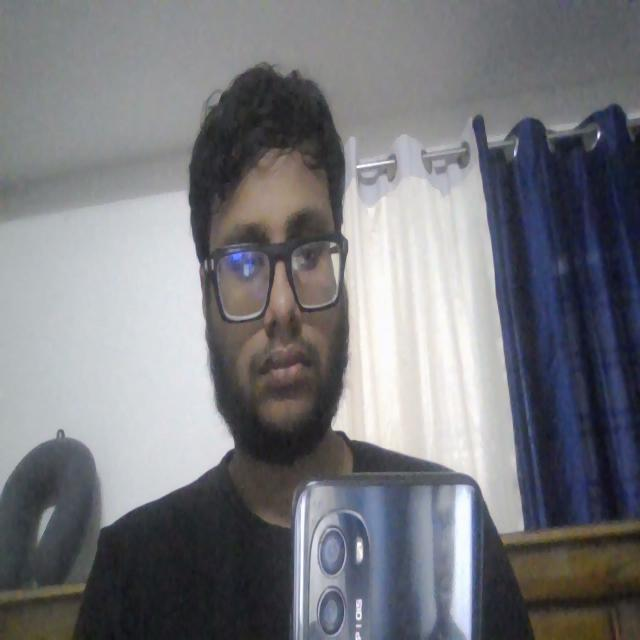phone: (293, 472, 487, 640)
